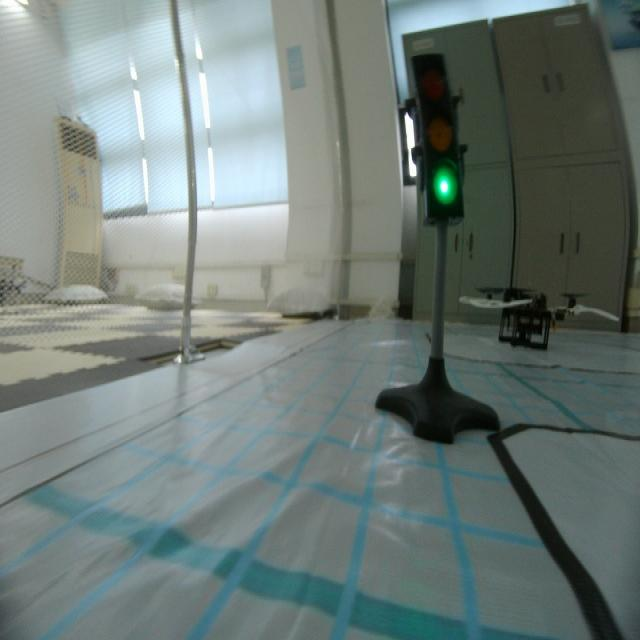green: (405, 44, 472, 231)
